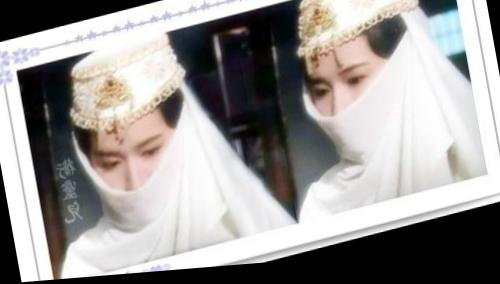WRONG: (304, 47, 410, 173), (86, 121, 186, 237)
